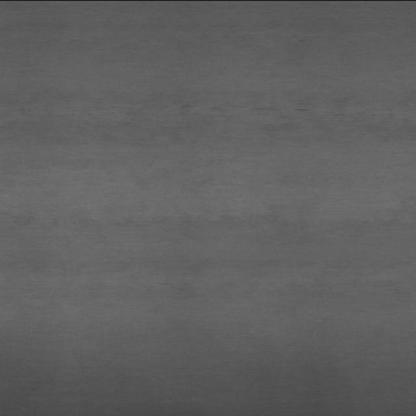silk_spot: (115, 86, 347, 140)
